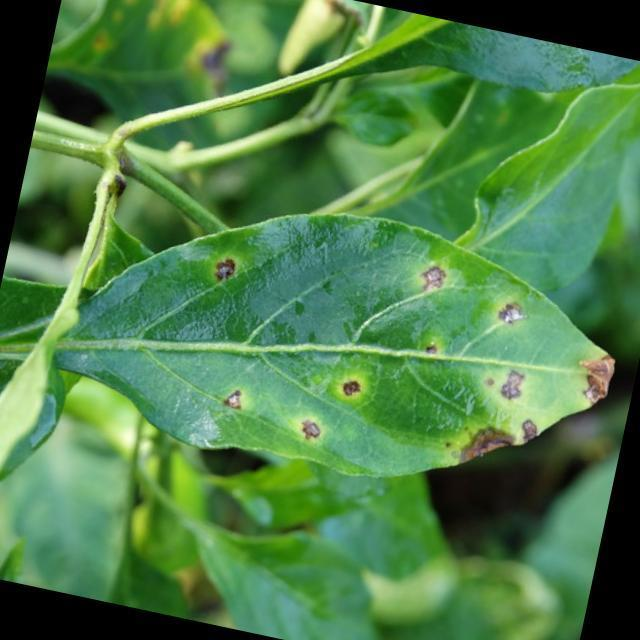Bacterial Spot: (172, 209, 541, 480)
